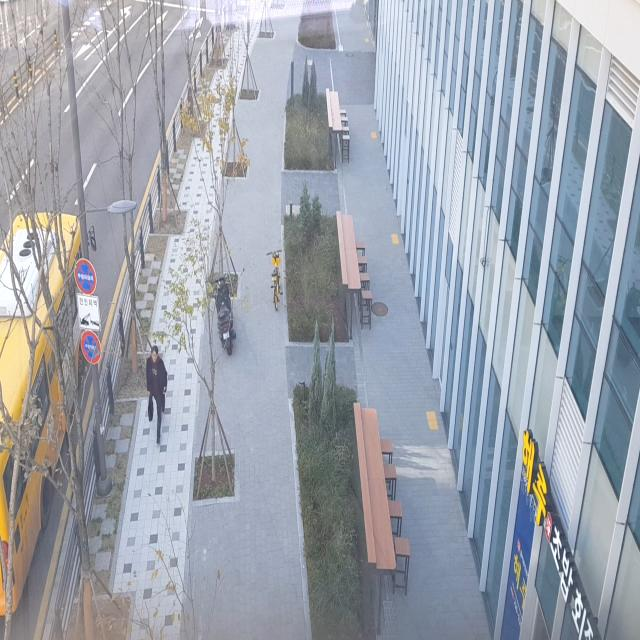Bus: (0, 179, 114, 638)
